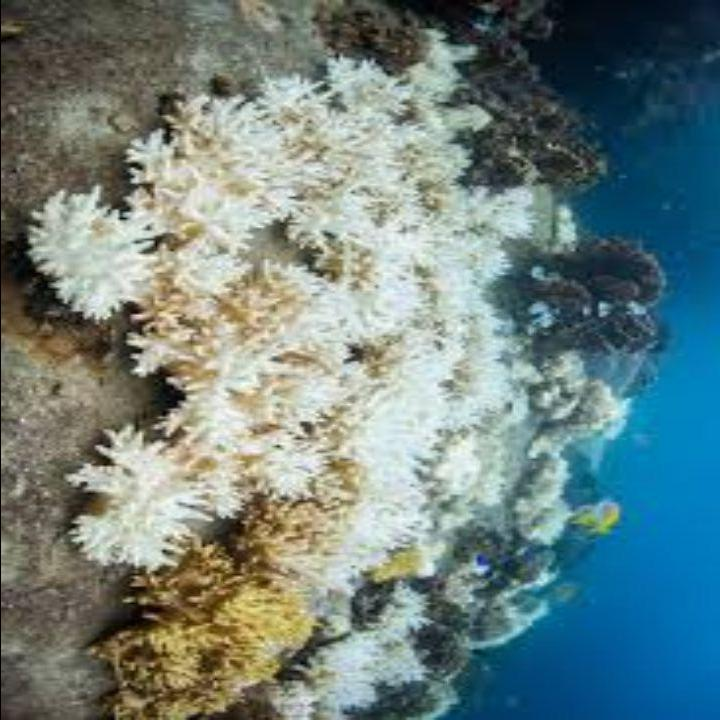Bleached disease: (53, 61, 553, 689)
